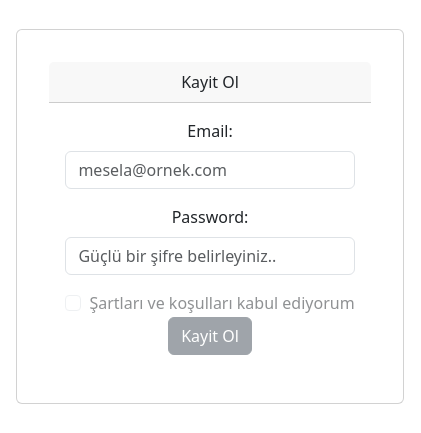
Test: Login sayfası hatalı form doldurulduğunda › Email yanlış durumu
Type "test" into the field with test id "email-input".
click(210, 170); type("test")  # box [65, 151, 354, 189]
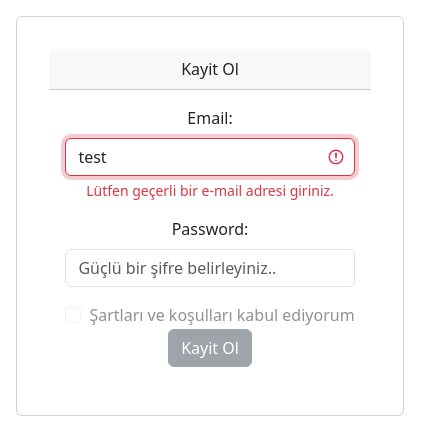
expect the button with test id "submit-button" is disabled: met, box [168, 329, 252, 367]
expect the number of elements with class "invalid-feedback" is 1: met, box [65, 180, 354, 201]
expect the text "Lütfen geçerli bir e-mail adresi giriniz." is shown: met, box [65, 180, 355, 201]
